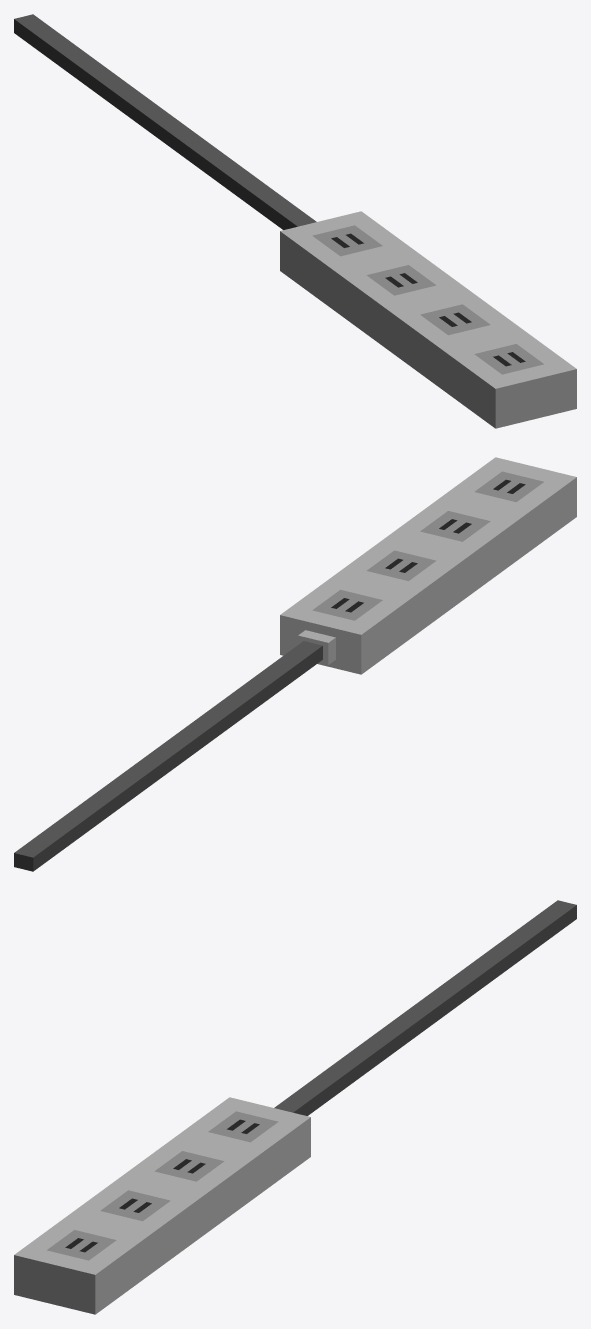
Rendered from SO_PowerOutletMulti.fbx.
3 views of the same model, one above another, from view 1: azimuth 30°, elevation 25°; view 2: azimuth 150°, elevation 25°; view 3: azimuth 330°, elevation 25° (orthographic).
Parts seen in each view (by area): view 1: SO_PowerOutletMulti; view 2: SO_PowerOutletMulti; view 3: SO_PowerOutletMulti.
Boxes of the visible parts, left/top/right/bottom form: SO_PowerOutletMulti: left=14, top=14, right=576, bottom=428; SO_PowerOutletMulti: left=14, top=457, right=576, bottom=871; SO_PowerOutletMulti: left=14, top=900, right=576, bottom=1314.
Bounding box in the file's own units: 0.2197 × 0.1027 × 2.4.
